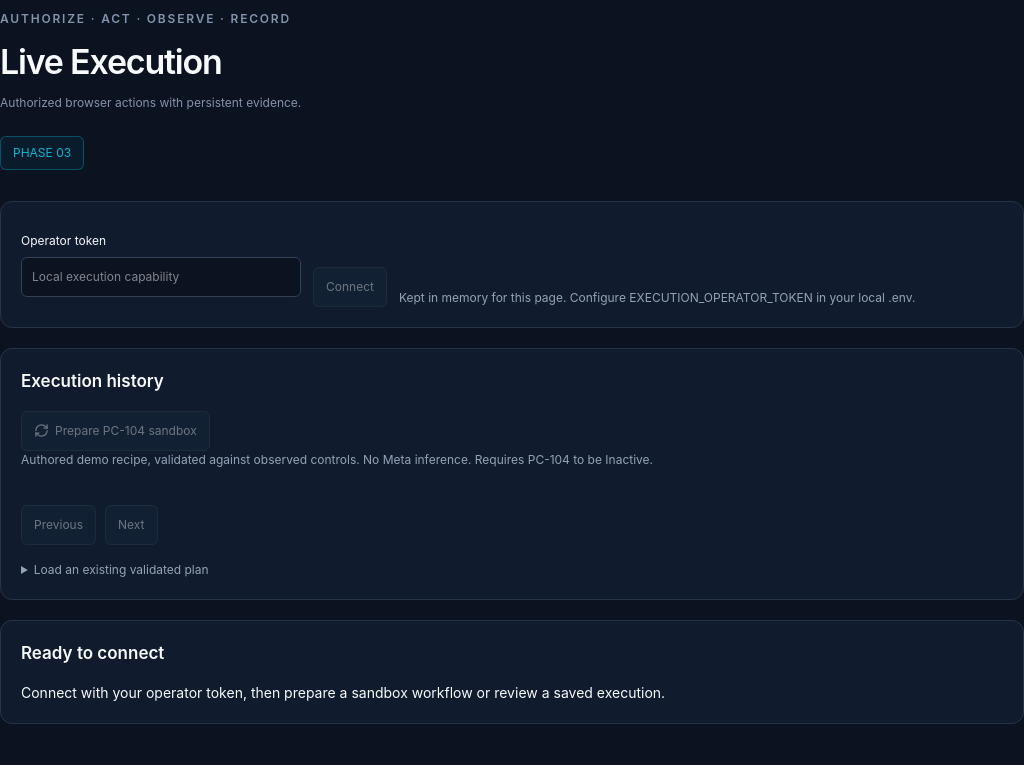
Test: requires connection and explicit review before approving a plan
Expected: the button "Prepare PC-104 sandbox" is disabled, left=21, top=411, right=210, bottom=451
Type "test-token" into the password field labelled "Operator token" at (161, 277), box left=21, top=257, right=301, bottom=297
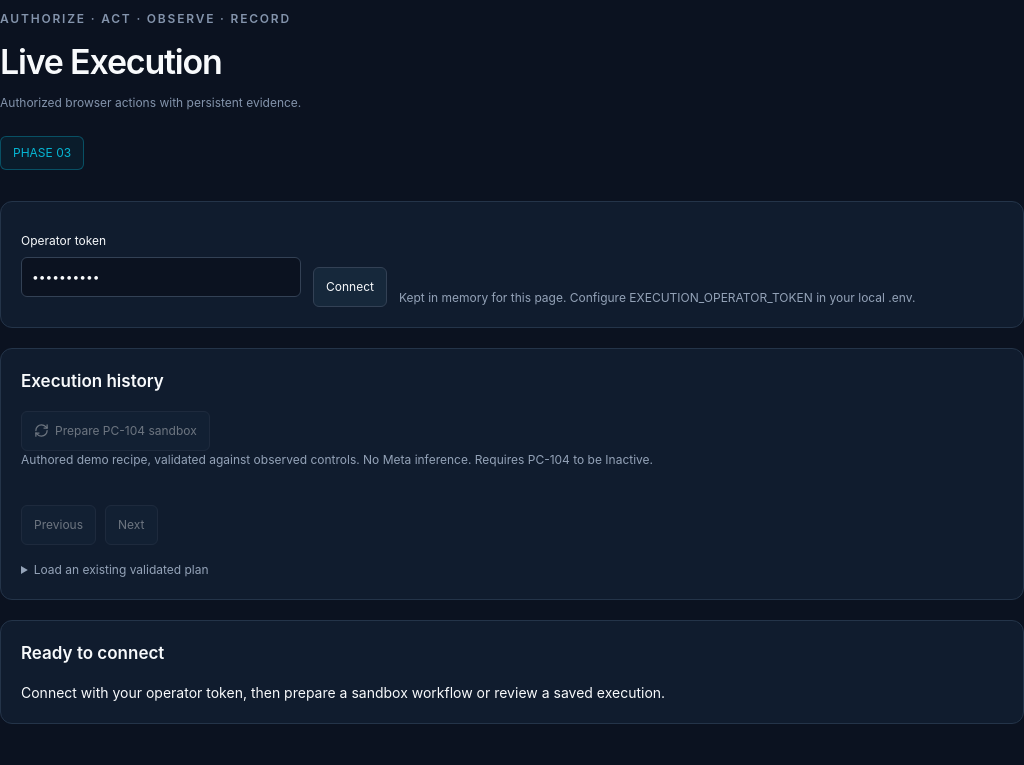
Click the button "Connect" at (350, 287), box left=313, top=267, right=387, bottom=307
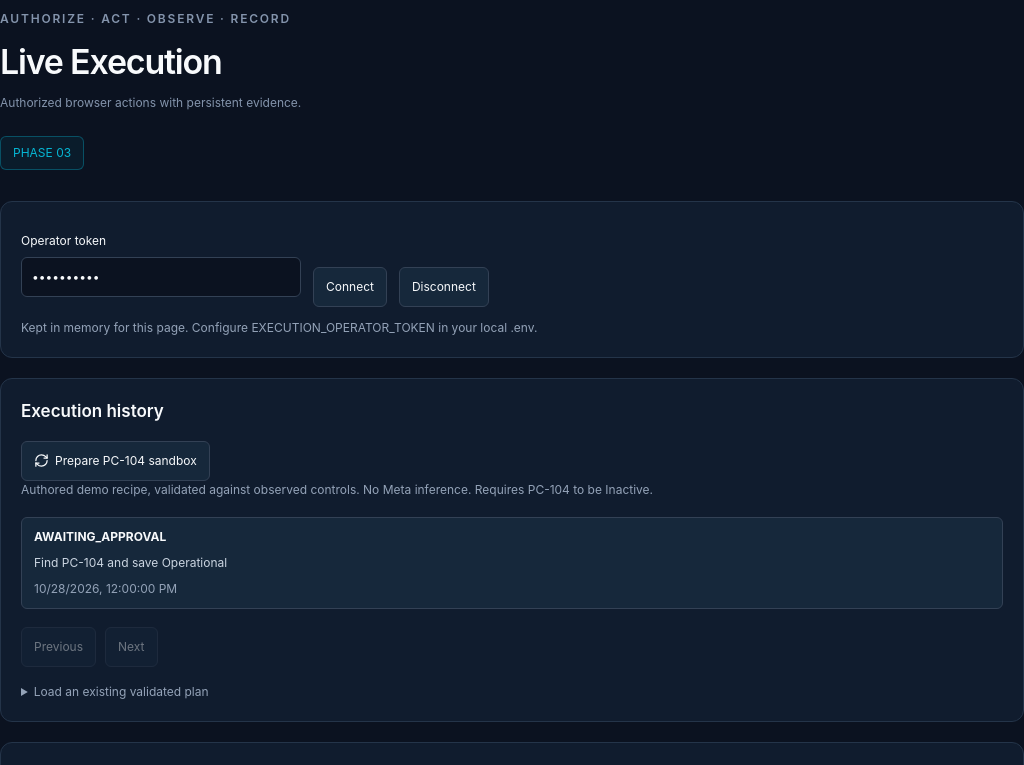
Click the button "AWAITING_APPROVAL" at (100, 536), box left=21, top=517, right=1003, bottom=609
(page scrolled)
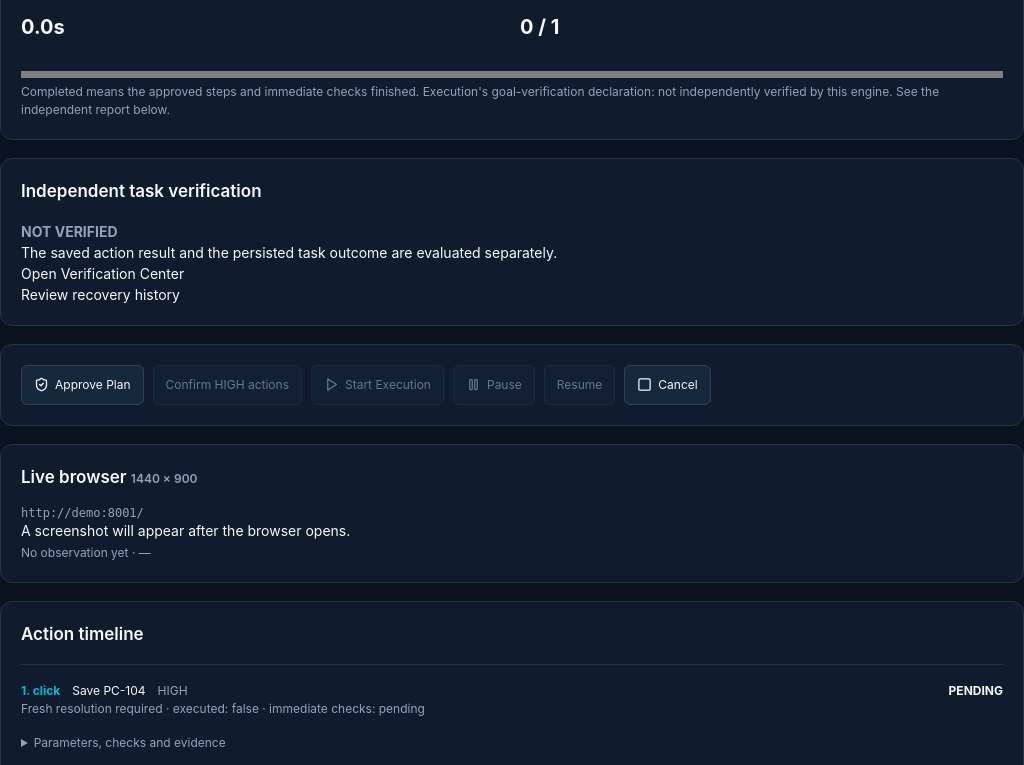
Click the button "Approve Plan" at (82, 385), box left=21, top=365, right=144, bottom=405
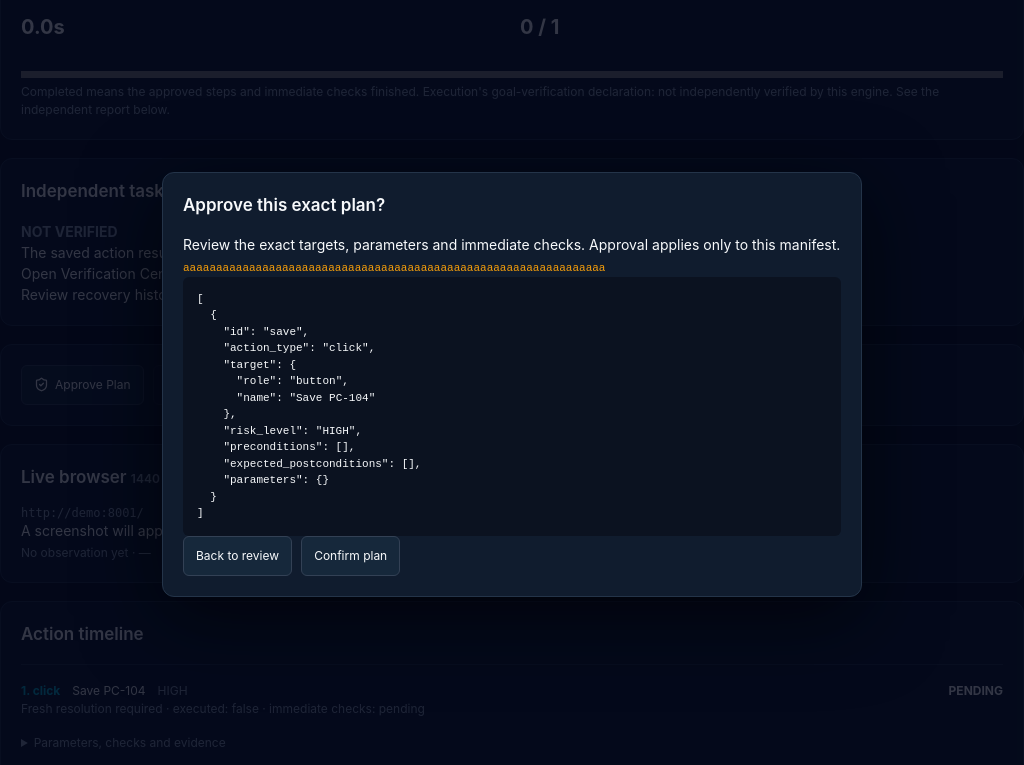
Result: the button "Start Execution" is disabled at left=311, top=365, right=444, bottom=405
Result: the dialog is shown at left=162, top=172, right=862, bottom=596
Click the button "Confirm plan" at (351, 556), box left=301, top=536, right=400, bottom=576
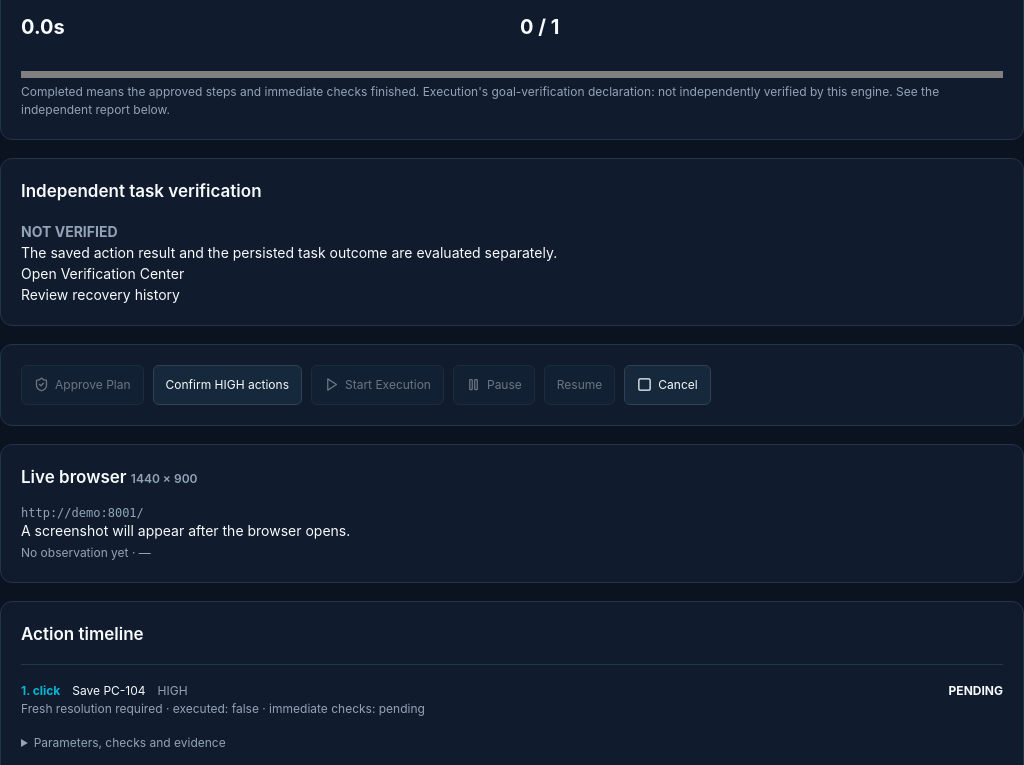
Result: the button "Confirm HIGH actions" is enabled at left=152, top=365, right=302, bottom=405
